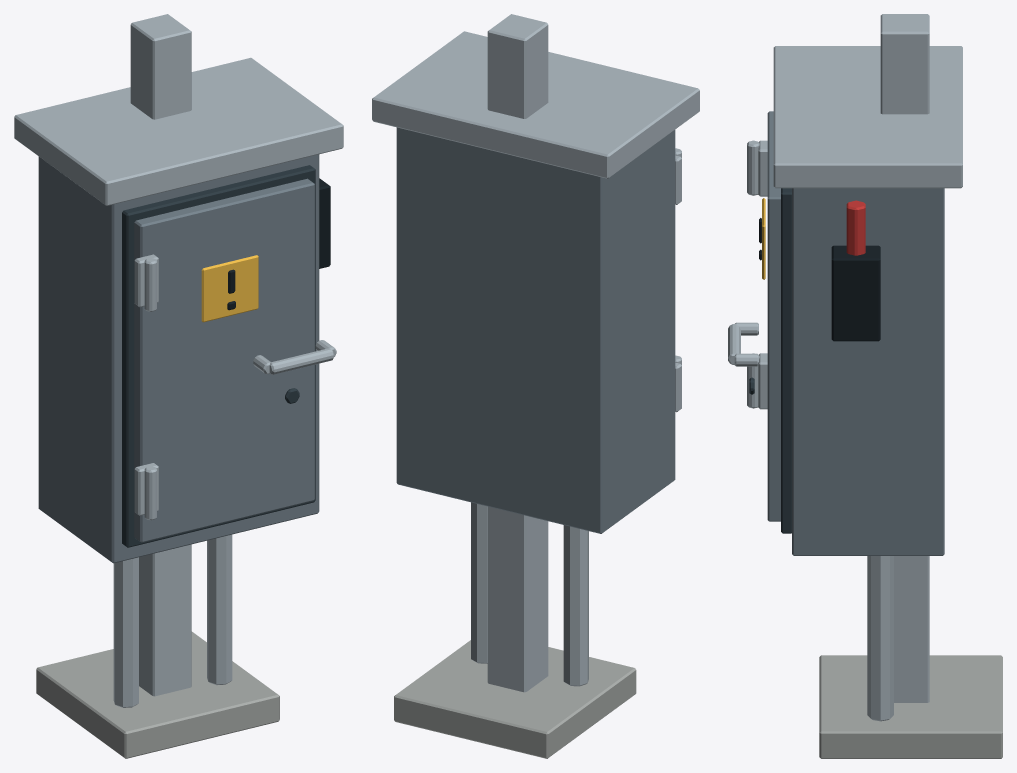
File: b05_outdoor_fused_disconnect.glb
3 views of the same model, side by side, from view 1: azimuth 30°, elevation 25°; view 2: azimuth 150°, elevation 25°; view 3: azimuth 270°, elevation 25° (orthographic). The views are drawn at different scales.
Visible parts, largest first — view 1: b05_outdoor_fused_disconnect; view 2: b05_outdoor_fused_disconnect; view 3: b05_outdoor_fused_disconnect.
Boxes of the visible parts, x1,y1,x2,y2 form: b05_outdoor_fused_disconnect: [14, 14, 343, 758]; b05_outdoor_fused_disconnect: [372, 14, 699, 758]; b05_outdoor_fused_disconnect: [728, 14, 1002, 758].
Size of the model in its own units: 0.4895 by 1.26 by 0.4495.
